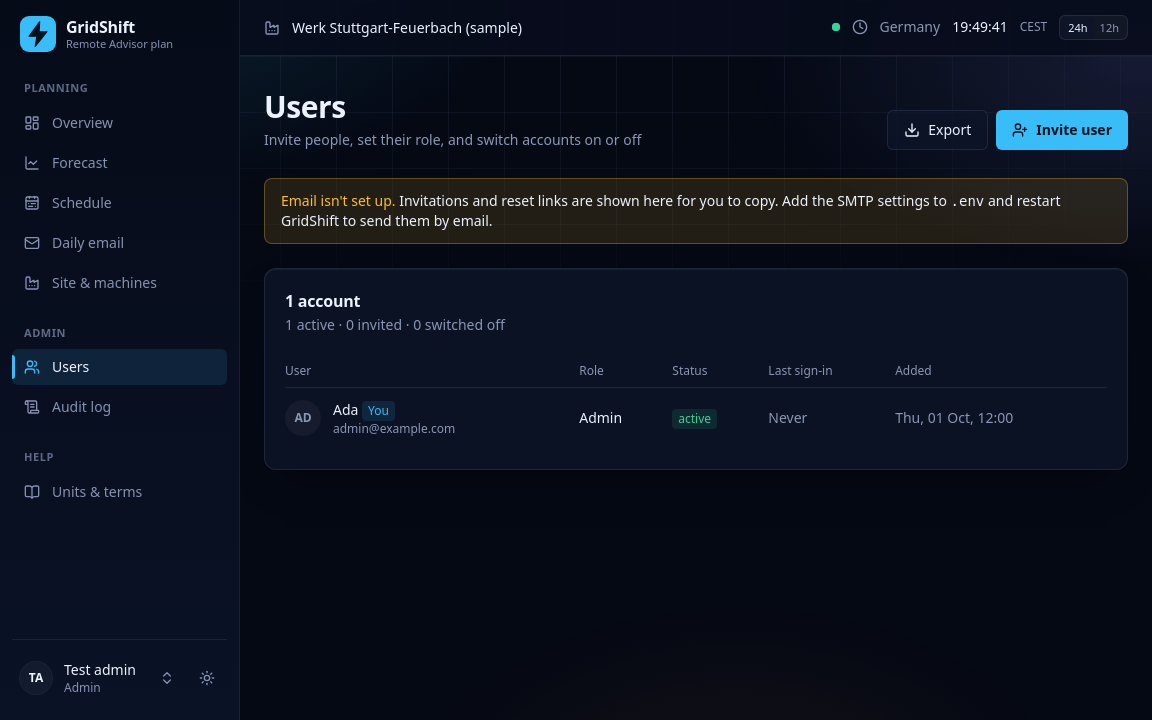
Test case: admin pages › lists users and opens the invite dialog
Expected: the text "admin@example.com" is shown, [333, 420, 455, 436]
Expected: the text "Email isn't set up." is shown, [281, 190, 396, 210]
Click the button "Invite user" at (1062, 130), box [996, 110, 1128, 150]
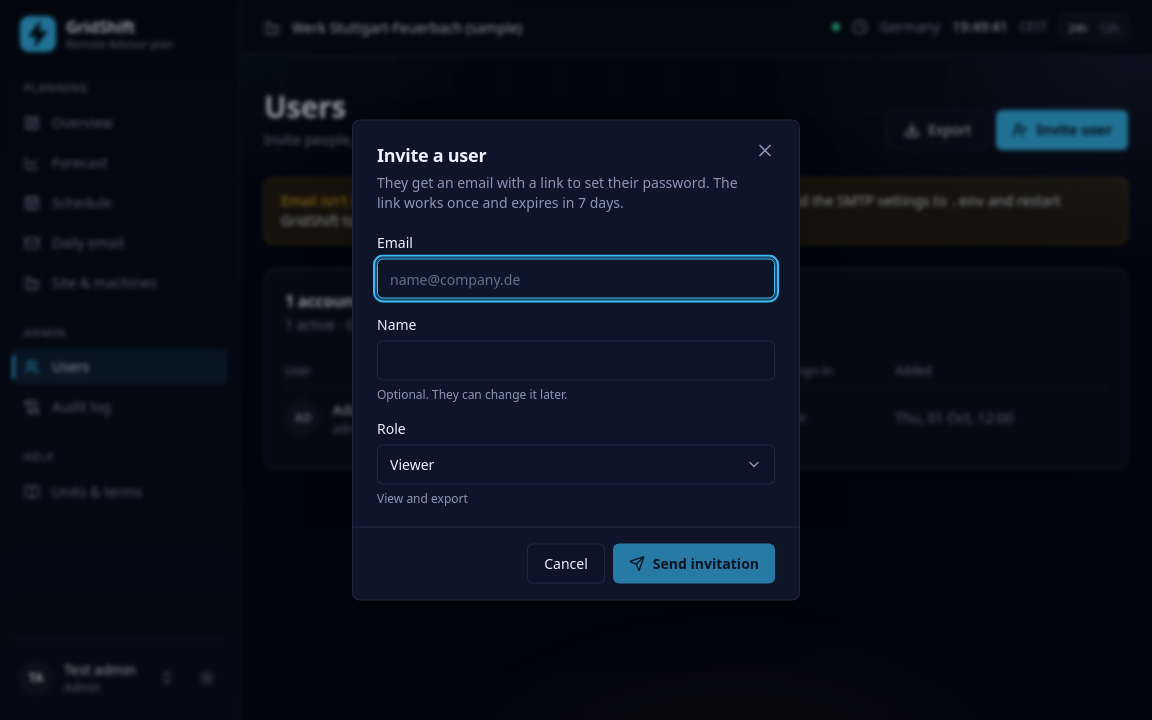
Result: the dialog shows "Invite a user" at [377, 142, 486, 166]
